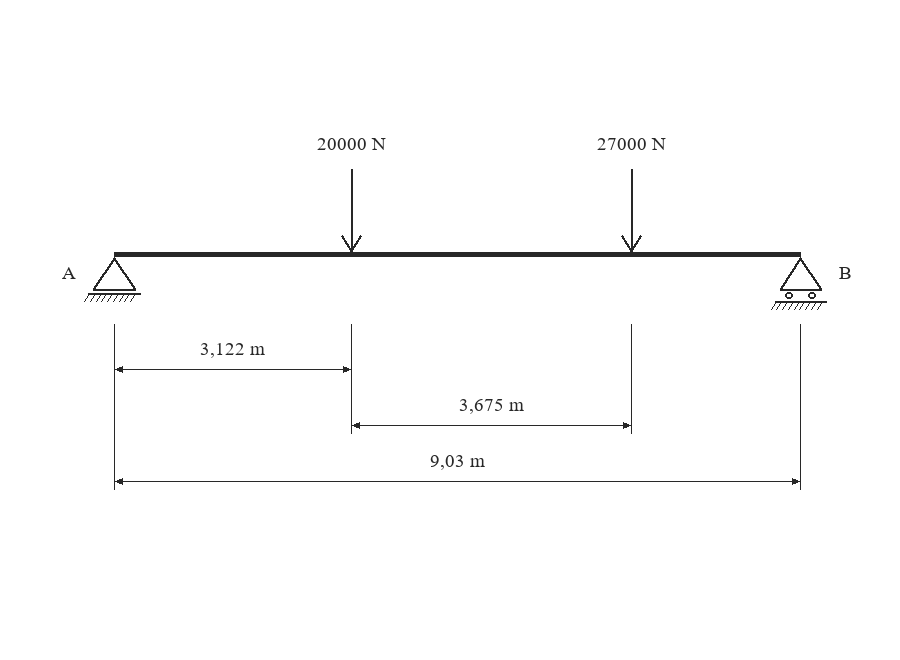pin_support: (84, 257, 141, 302)
point_load: (341, 169, 362, 253), (621, 169, 642, 253)
roller_support: (771, 257, 827, 310)
